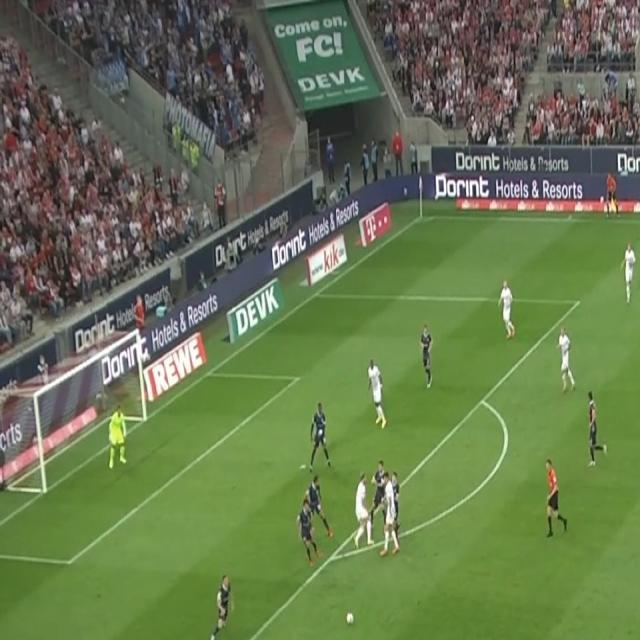ball: (345, 610, 355, 628)
